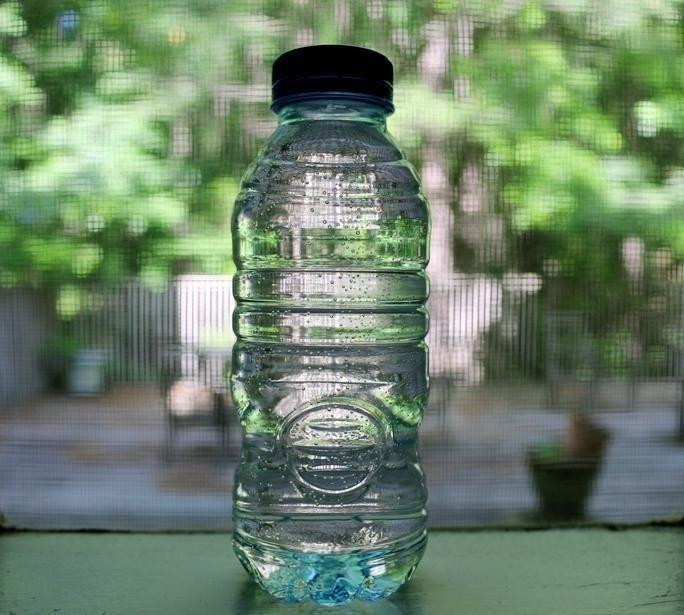bottle-plastic: (224, 37, 438, 607)
